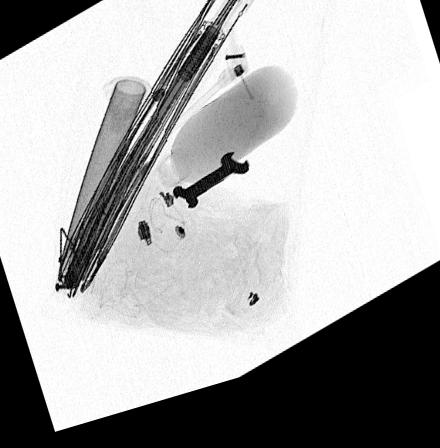Wrench: (171, 162, 251, 220)
